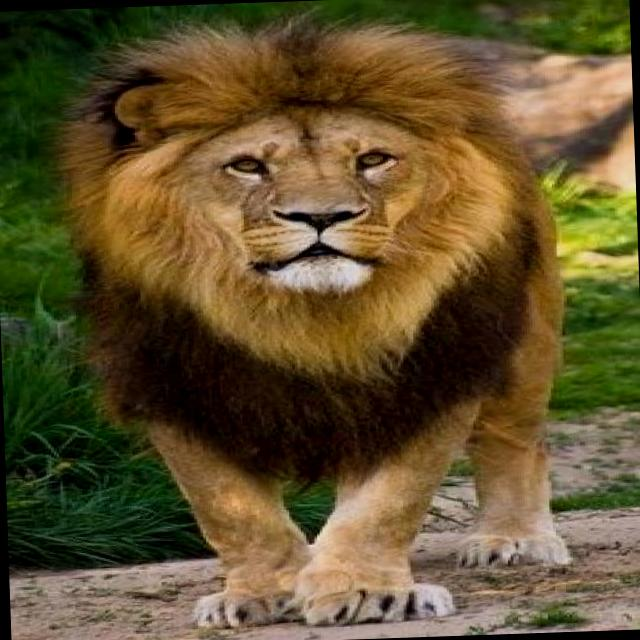lions: (23, 6, 640, 640)
